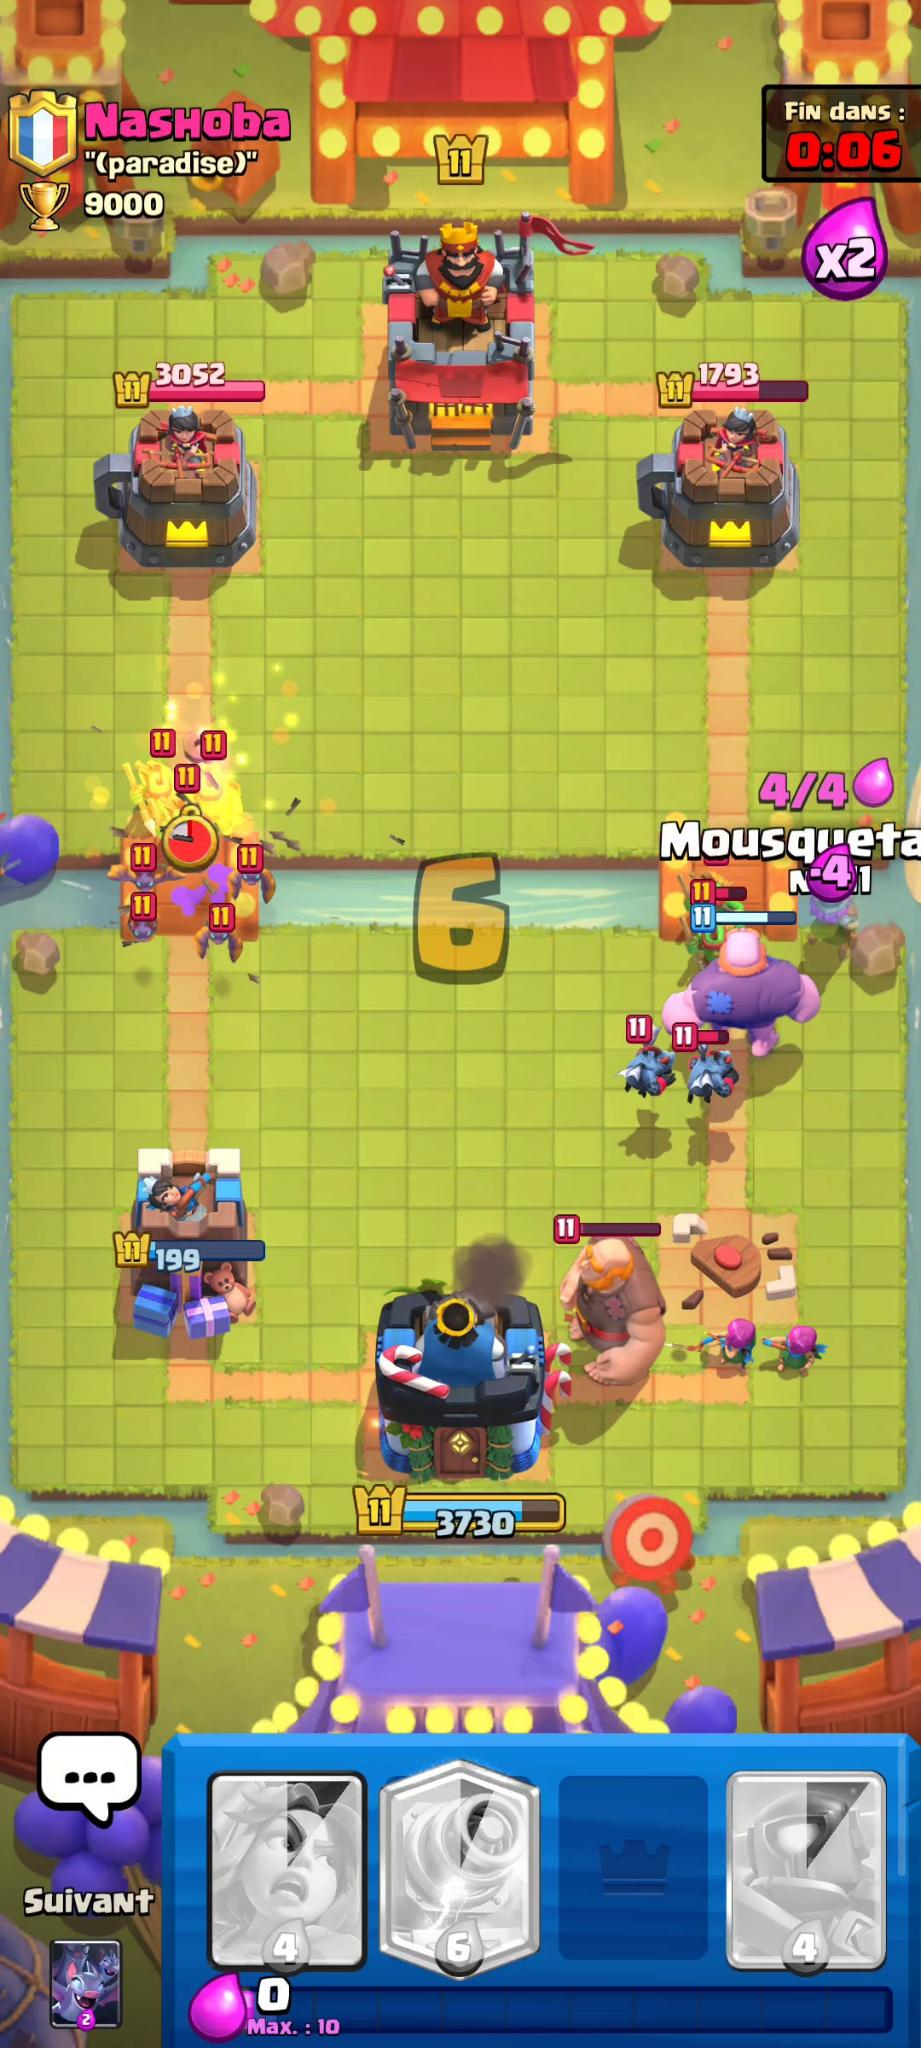archere: (696, 1306, 763, 1361), (769, 1315, 823, 1381)
bat: (201, 903, 246, 969), (121, 900, 163, 967), (233, 846, 269, 899), (119, 850, 158, 893)
gargouille: (681, 1042, 742, 1098), (624, 1033, 671, 1091)
geant: (670, 929, 818, 1059), (572, 1249, 666, 1403)
gobelin_lances: (119, 759, 183, 839), (691, 867, 738, 953), (163, 807, 218, 863), (688, 917, 734, 960), (201, 763, 229, 820)
mousquetaire: (797, 883, 862, 961)
